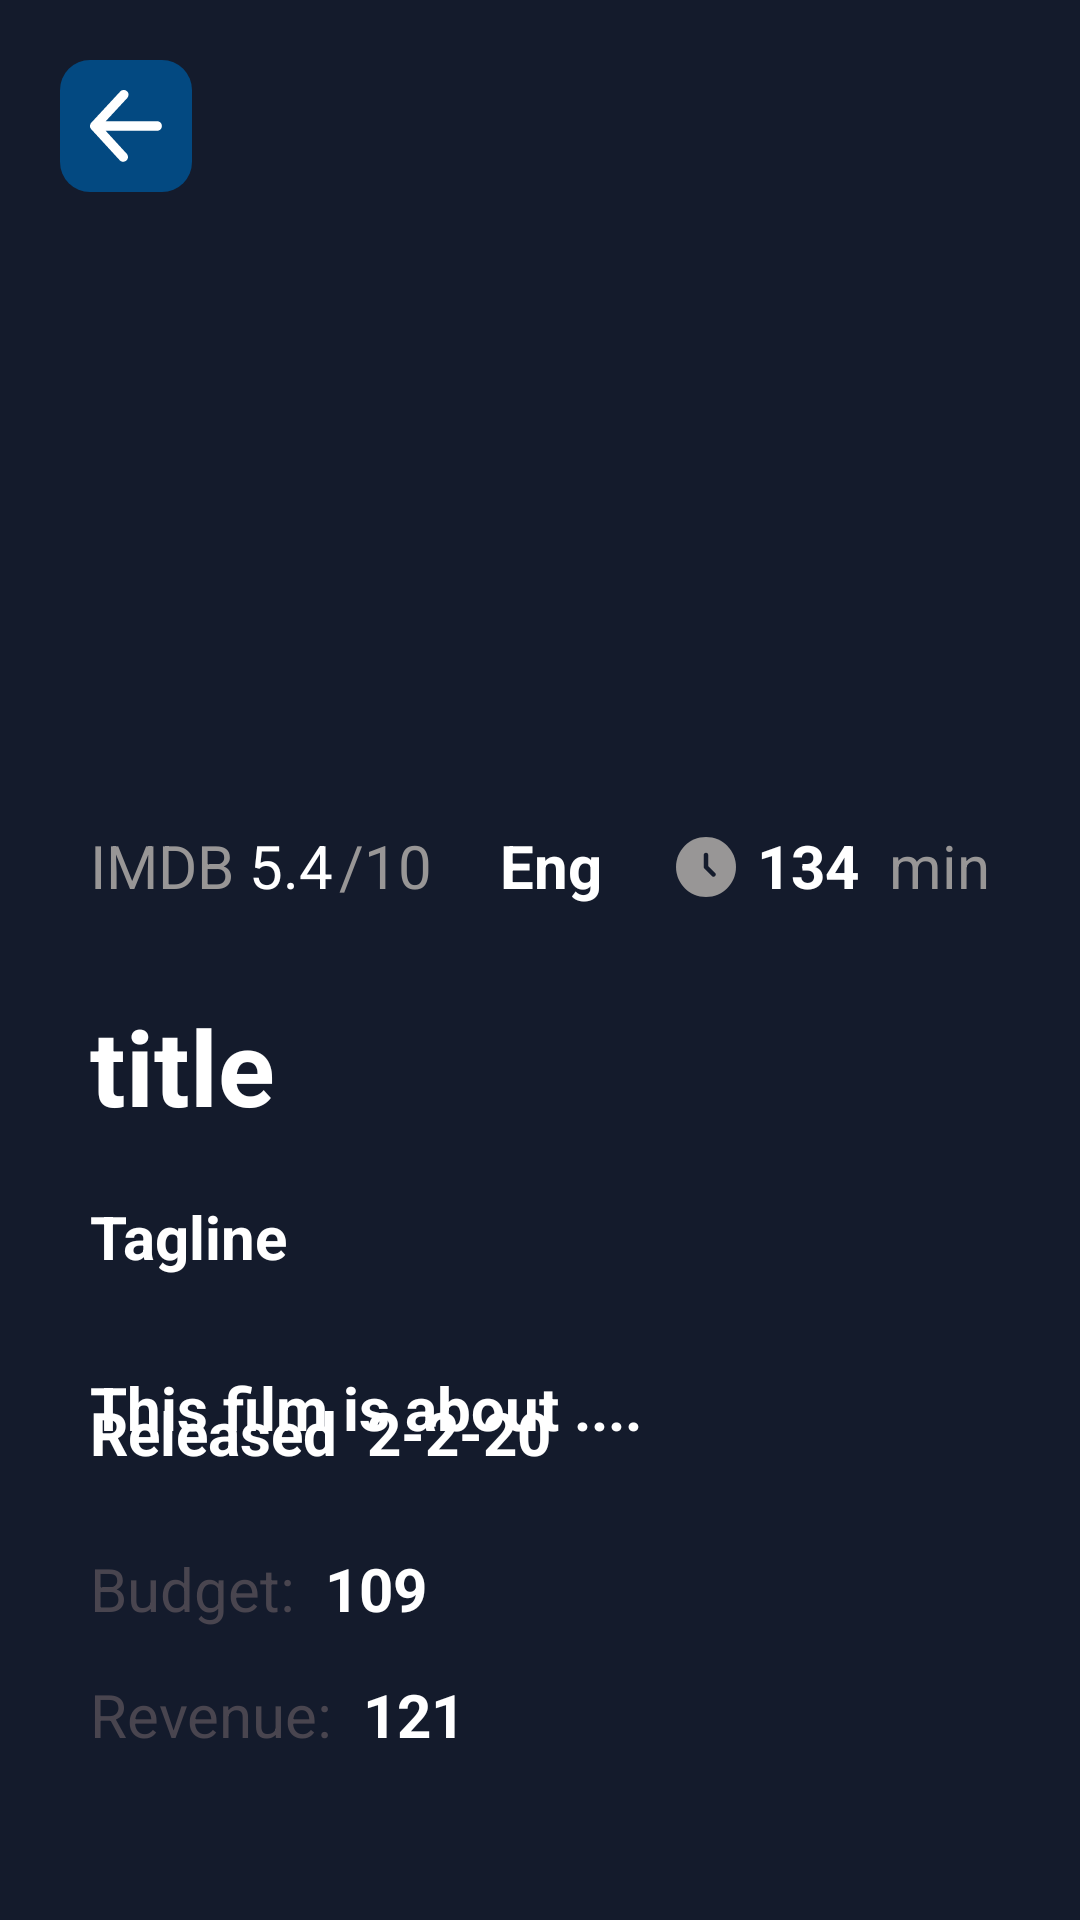

Icon click points for this 1080×1920 phone screenshot, format (x,y):
back: (126,126)
clock: (706,867)
